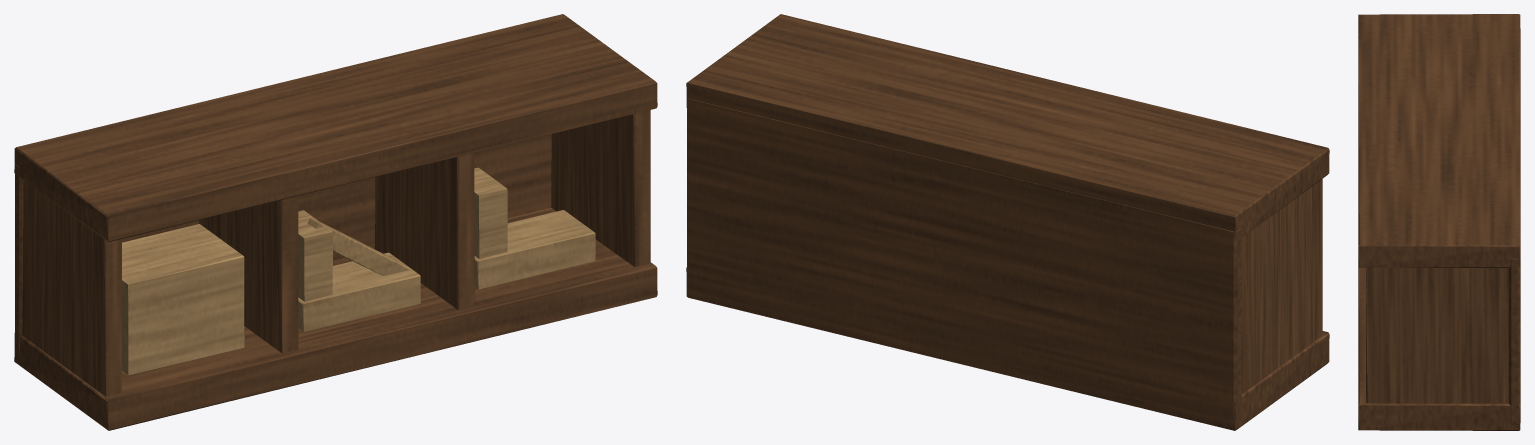
Rendered from WestAngleSamples_LOD1.fbx.
The picture shows the model from 3 angles, left to right: view 1: azimuth 30°, elevation 25°; view 2: azimuth 150°, elevation 25°; view 3: azimuth 270°, elevation 25°; orthographic projection. The views are drawn at different scales.
Parts seen in each view (by area): view 1: WestAngleSamples.001; view 2: WestAngleSamples.001; view 3: WestAngleSamples.001.
Boxes of the visible parts, <box> form: WestAngleSamples.001: <box>14,14,657,430</box>; WestAngleSamples.001: <box>686,14,1329,430</box>; WestAngleSamples.001: <box>1358,14,1520,430</box>.
Size of the model in its own units: 1.15 by 0.4315 by 0.3404.
1 material, 1 textured.
